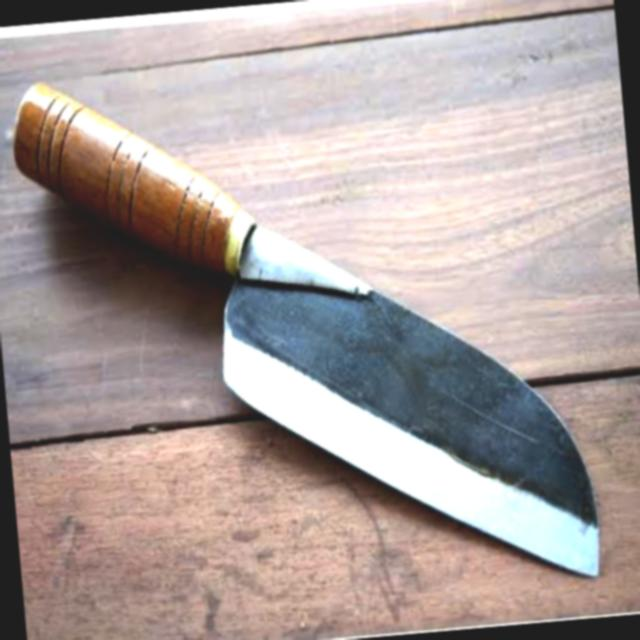knife: (0, 25, 605, 633)
